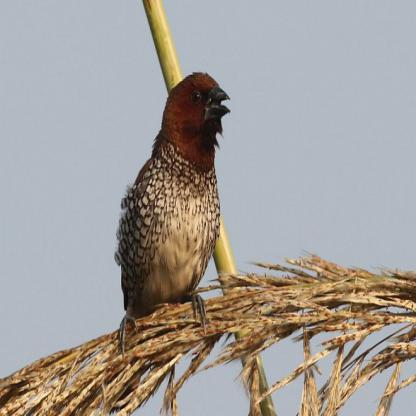Burung: (115, 72, 230, 352)
